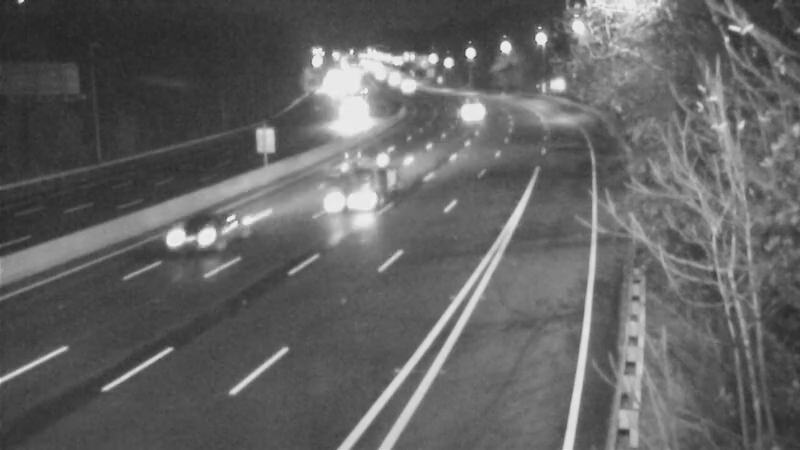vehicle: (339, 130, 419, 210), (165, 189, 245, 269), (442, 84, 492, 134), (315, 95, 365, 145)
